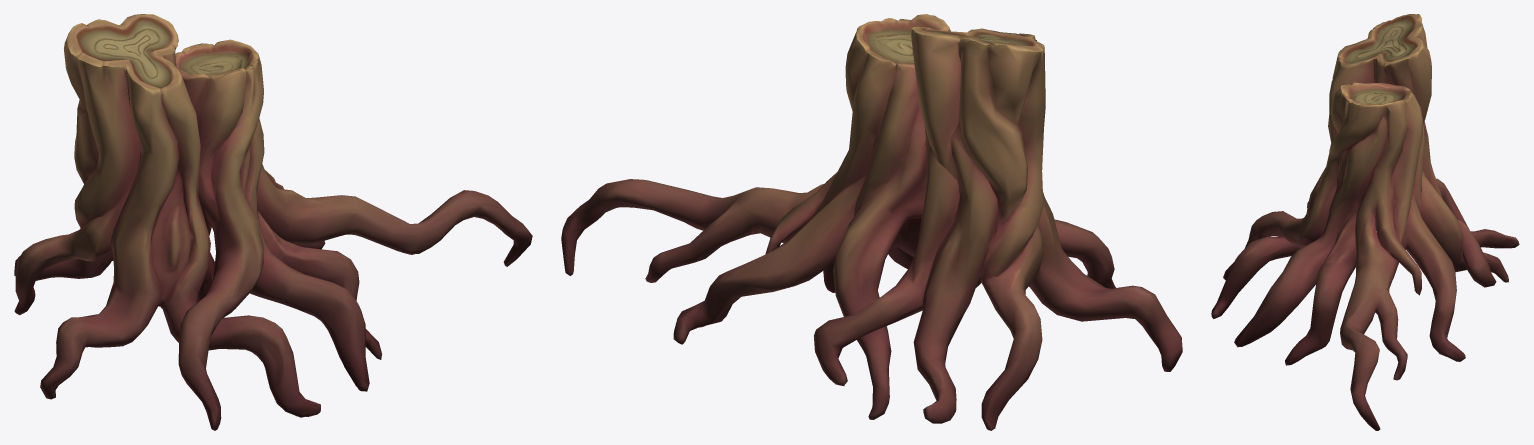
Rendered from bog_giant_tree_trunk_lite.glb.
3 views of the same model, side by side, from view 1: azimuth 30°, elevation 25°; view 2: azimuth 150°, elevation 25°; view 3: azimuth 270°, elevation 25° (orthographic). The views are drawn at different scales.
Visible parts, largest first — view 1: SM_XBOG_STL_GiantTreeTrunk_01B; view 2: SM_XBOG_STL_GiantTreeTrunk_01B; view 3: SM_XBOG_STL_GiantTreeTrunk_01B.
Part boxes in pixels (x1,y1,x2,y2): SM_XBOG_STL_GiantTreeTrunk_01B: (14, 14, 532, 430); SM_XBOG_STL_GiantTreeTrunk_01B: (561, 14, 1182, 430); SM_XBOG_STL_GiantTreeTrunk_01B: (1211, 14, 1519, 430).
Bounding box in the file's own units: 42.86 × 26.15 × 27.69.
1 material, 1 textured.
